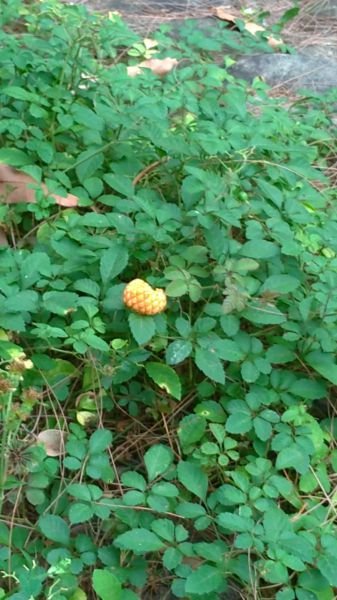eggs: (120, 276, 174, 318)
